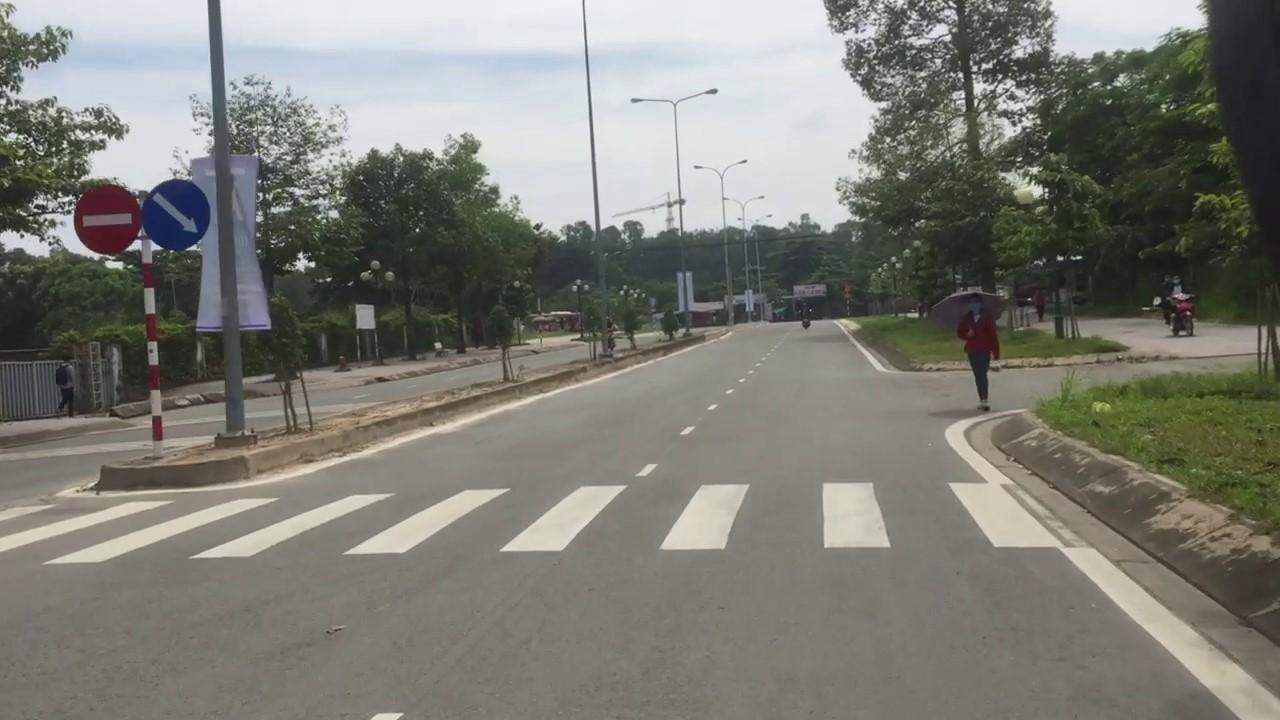DP.135: (73, 186, 140, 256)
P.130: (141, 179, 210, 253)
